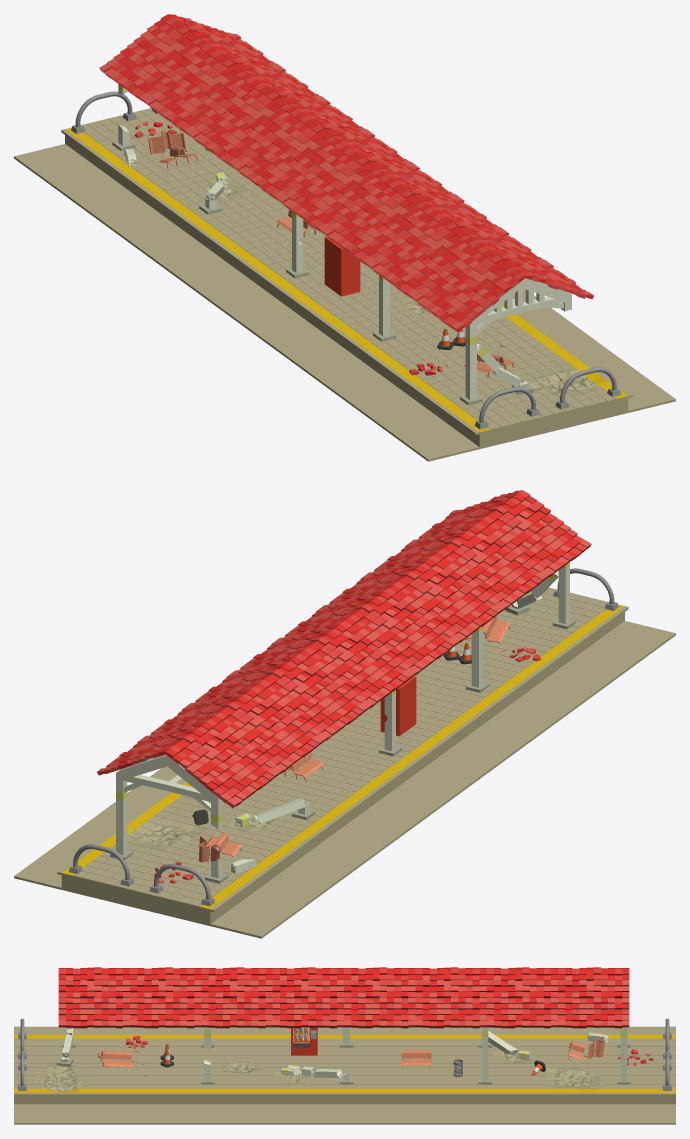
File: subway32.fbx
3 views of the same model, one above another, from view 1: azimuth 30°, elevation 25°; view 2: azimuth 150°, elevation 25°; view 3: azimuth 270°, elevation 25° (orthographic). The views are drawn at different scales.
Visible parts, largest first — view 1: Cube, Cube.005, Cube.002, Cube.010, Cylinder.001, Cube.001, Cube.018; view 2: Cube, Cube.005, Cube.033, Cylinder.008, Cube.010, Cube.002, Cube.001, Cube.018; view 3: Cube, Cube.005, Cube.010, Cube.033, Cube.023, Cube.003, Cube.020, Cylinder.008, Cylinder.001, Cube.008, Cube.021.
Boxes of the visible parts, bbox=[...] form: Cube: bbox=[14, 108, 675, 461]; Cube.005: bbox=[99, 14, 593, 331]; Cube.002: bbox=[460, 278, 571, 405]; Cube.010: bbox=[324, 236, 360, 296]; Cylinder.001: bbox=[475, 367, 621, 429]; Cube.001: bbox=[373, 275, 396, 341]; Cube.018: bbox=[286, 211, 309, 278]; Cube: bbox=[14, 587, 675, 938]; Cube.005: bbox=[97, 490, 591, 807]; Cube.033: bbox=[110, 754, 222, 859]; Cylinder.008: bbox=[68, 844, 214, 906]; Cube.010: bbox=[380, 676, 416, 736]; Cube.002: bbox=[552, 562, 575, 629]; Cube.001: bbox=[465, 626, 488, 692]; Cube.018: bbox=[379, 690, 401, 756]; Cube: bbox=[14, 1026, 675, 1124]; Cube.005: bbox=[58, 967, 629, 1028]; Cube.010: bbox=[291, 1027, 317, 1055]; Cube.033: bbox=[617, 1027, 630, 1084]; Cube.023: bbox=[401, 1050, 431, 1069]; Cube.003: bbox=[98, 1051, 133, 1070]; Cube.020: bbox=[478, 1027, 491, 1084]; Cylinder.008: bbox=[663, 1018, 671, 1090]; Cylinder.001: bbox=[18, 1018, 26, 1090]; Cube.008: bbox=[488, 1031, 517, 1054]; Cube.021: bbox=[584, 1036, 604, 1058].
Size of the model in its own units: 2463 by 1314 by 7140.
